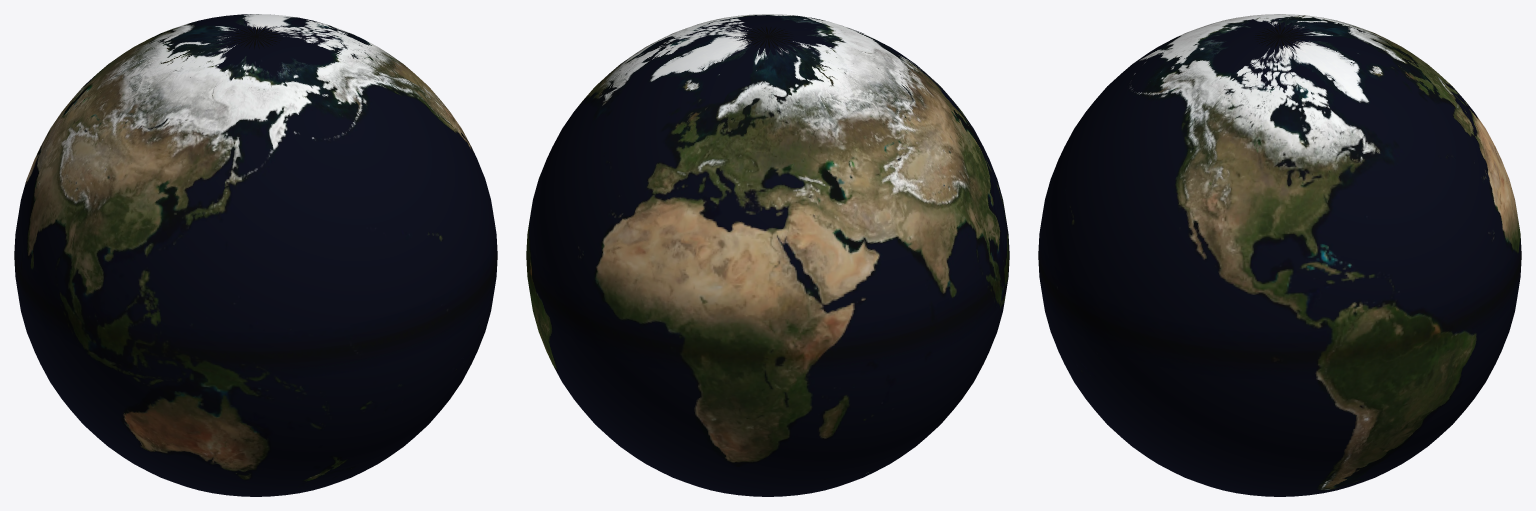
File: low_res_earth.glb
3 renders of one model, left to right at view 1: azimuth 30°, elevation 25°; view 2: azimuth 150°, elevation 25°; view 3: azimuth 270°, elevation 25°, orthographic.
Parts seen in each view (by area): view 1: Sphere; view 2: Sphere; view 3: Sphere.
Boxes of the visible parts, bbox=[...] form: Sphere: bbox=[14, 14, 497, 496]; Sphere: bbox=[526, 14, 1009, 496]; Sphere: bbox=[1038, 14, 1521, 496].
Size of the model in its own units: 19.8 by 19.8 by 19.8.
1 material, 1 textured.
